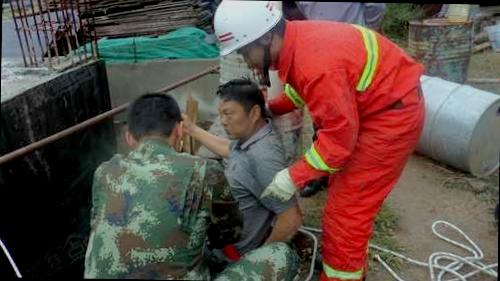no_helmet: (121, 92, 197, 154), (210, 80, 275, 146)
